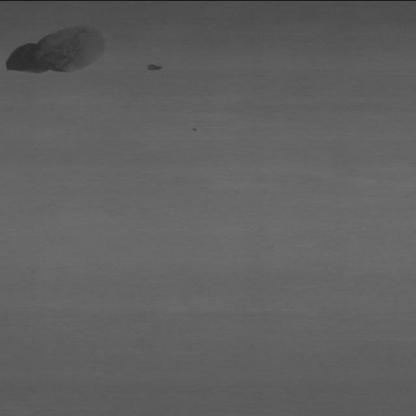oil_spot: (3, 21, 112, 80), (146, 63, 164, 78)
